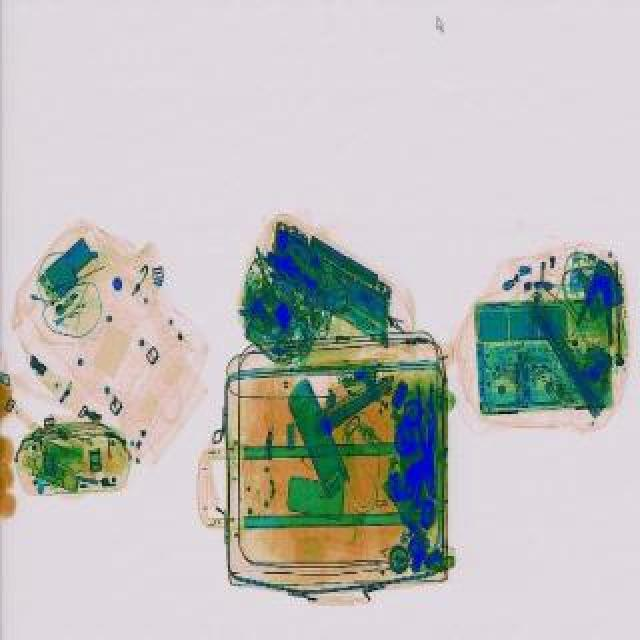wrench: (410, 382, 446, 500), (574, 260, 622, 346)
